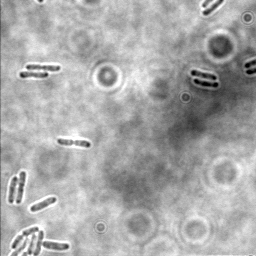Dividing: (14, 170, 28, 206), (56, 137, 92, 149), (24, 63, 62, 72), (18, 70, 49, 79)
Microcolony: (7, 224, 70, 255)
Rod: (29, 195, 57, 214), (202, 0, 226, 18), (189, 68, 217, 82), (192, 78, 220, 90), (7, 176, 18, 205)
